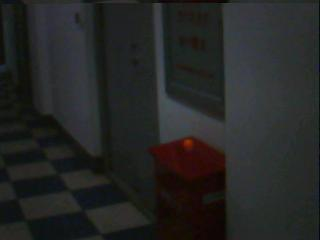oball: (183, 138, 193, 150)
